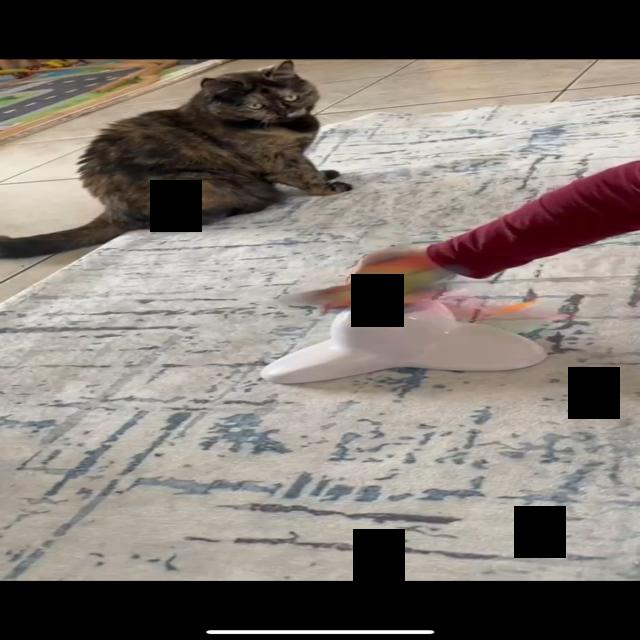authorized: (1, 59, 352, 259)
